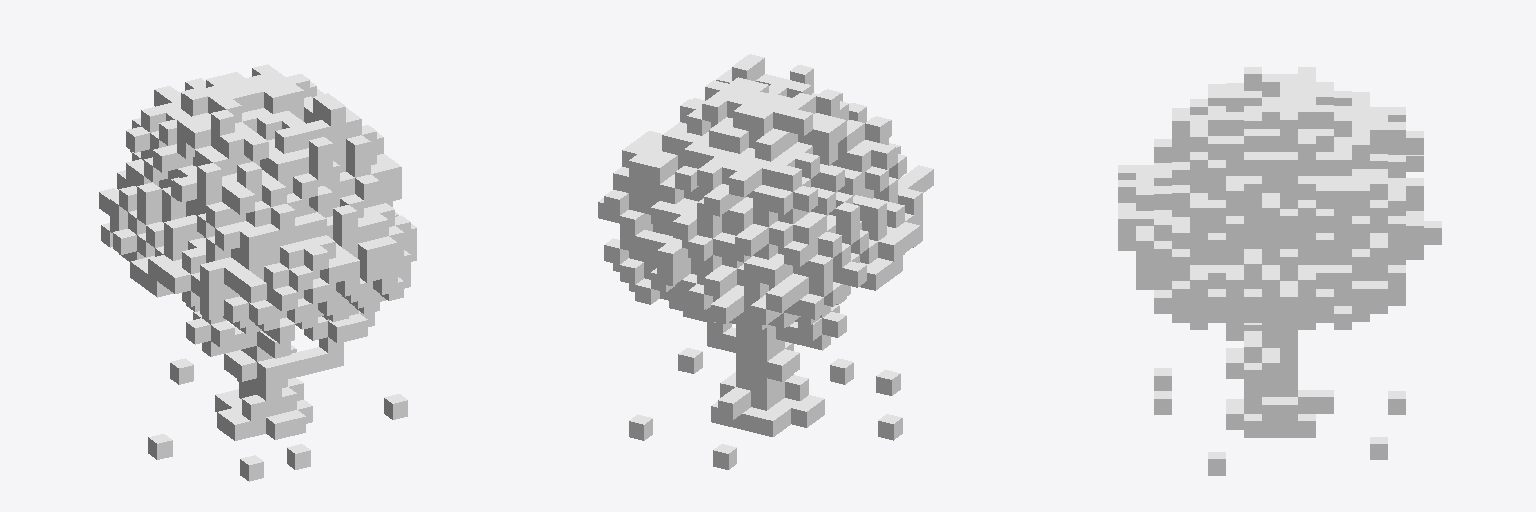
Rendered from apple_tree.obj.
3 renders of one model, left to right at view 1: azimuth 30°, elevation 25°; view 2: azimuth 150°, elevation 25°; view 3: azimuth 270°, elevation 25°, orthographic.
Visible parts, largest first — view 1: apple_tree; view 2: apple_tree; view 3: apple_tree.
Part boxes in pixels (x1,y1,x2,y2): apple_tree: (99, 64, 416, 481); apple_tree: (598, 54, 933, 469); apple_tree: (1118, 67, 1441, 475).
Size of the model in its own units: 1.5 by 2 by 1.8.